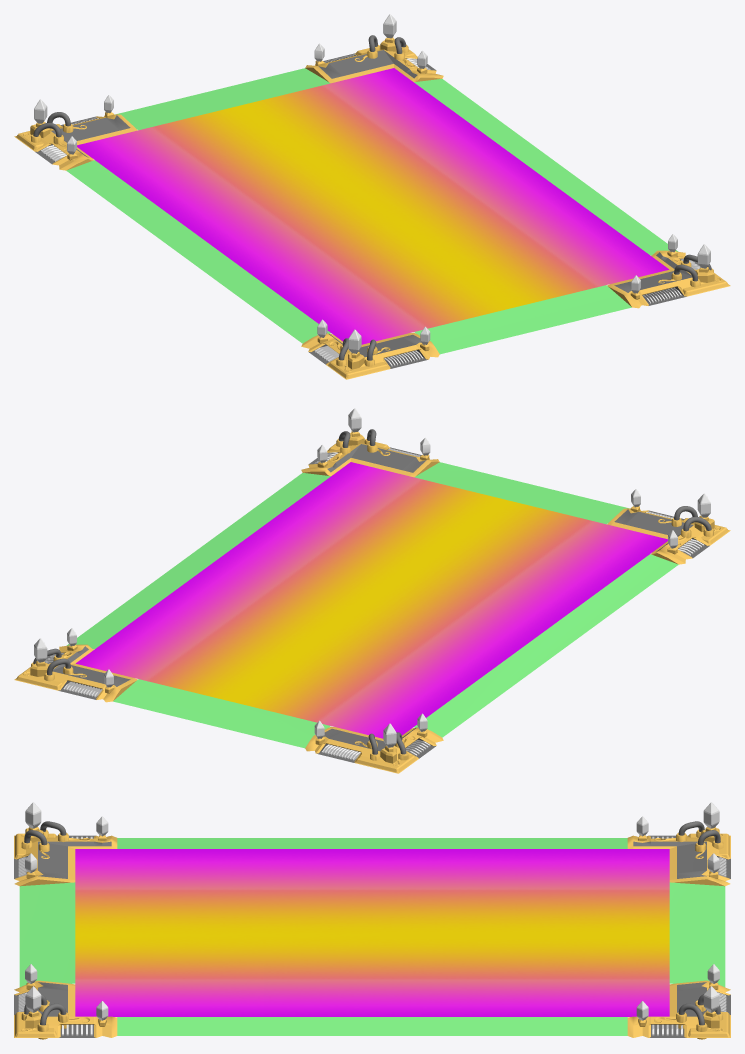
The model's file is 142_Le_Golden_NFT_DIsplay_-_4x6.fbx.
3 renders of one model, top to bottom at view 1: azimuth 30°, elevation 25°; view 2: azimuth 150°, elevation 25°; view 3: azimuth 270°, elevation 25°, orthographic. The views are drawn at different scales.
Visible parts, largest first — view 1: NFTGolden6x4; view 2: NFTGolden6x4; view 3: NFTGolden6x4.
Part boxes in pixels (box(x1,y1,x2,y2)): NFTGolden6x4: box(14, 14, 730, 379); NFTGolden6x4: box(14, 408, 730, 773); NFTGolden6x4: box(14, 802, 730, 1039).
Size of the model in its own units: 4 by 0.4227 by 5.99.
